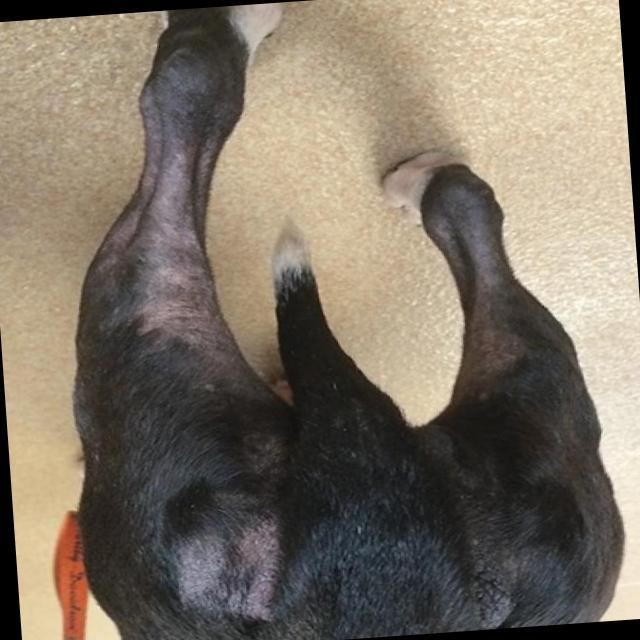allergic dermatitis: (126, 130, 212, 358), (171, 510, 282, 624)
